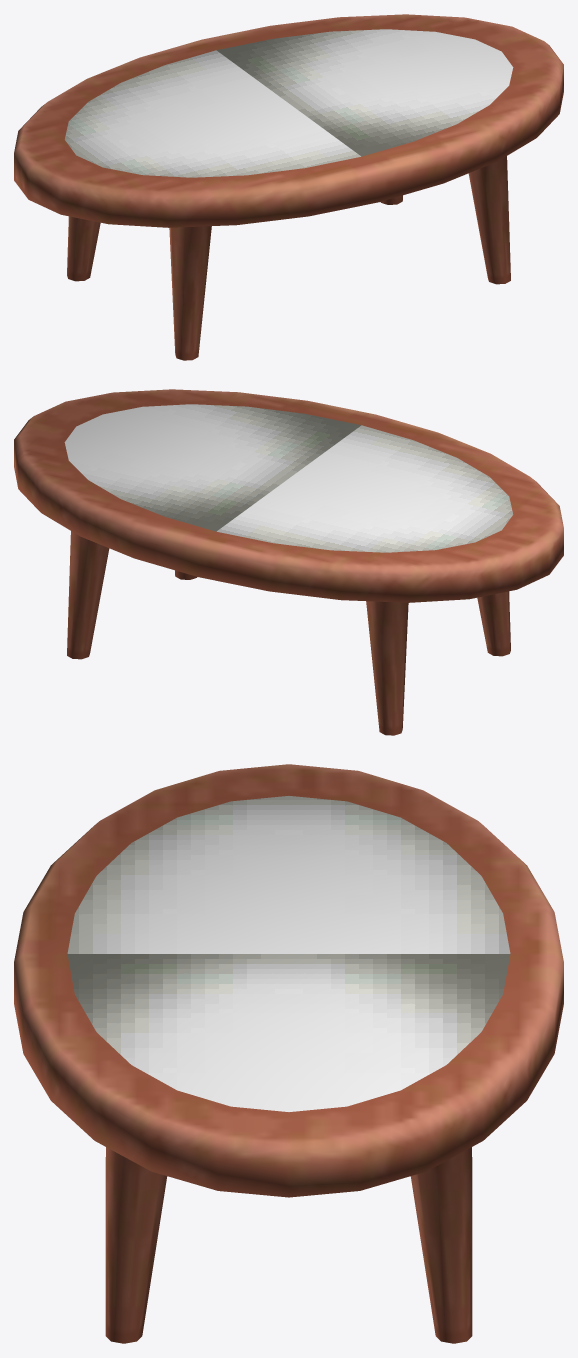
The model's file is rmk_scd_tableM uv fix.dae.
The picture shows the model from 3 angles, top to bottom: view 1: azimuth 30°, elevation 25°; view 2: azimuth 150°, elevation 25°; view 3: azimuth 270°, elevation 25°; orthographic projection. The views are drawn at different scales.
Parts seen in each view (by area): view 1: vsn_mesh_0_, vsn_mesh_1_.1; view 2: vsn_mesh_0_, vsn_mesh_1_.1; view 3: vsn_mesh_1_.1, vsn_mesh_0_.
Part boxes in pixels (x1,y1,x2,y2): vsn_mesh_0_: [14, 14, 563, 360]; vsn_mesh_1_.1: [64, 29, 513, 177]; vsn_mesh_0_: [14, 389, 563, 735]; vsn_mesh_1_.1: [64, 404, 513, 552]; vsn_mesh_1_.1: [67, 796, 510, 1111]; vsn_mesh_0_: [14, 764, 563, 1343].
Size of the model in its own units: 50 by 16 by 30.
3 materials, 3 textured.
